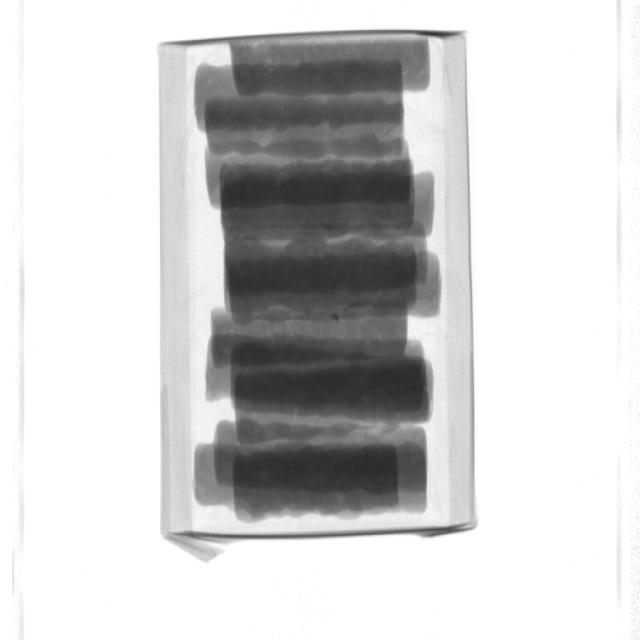ym: (331, 314, 340, 323)
